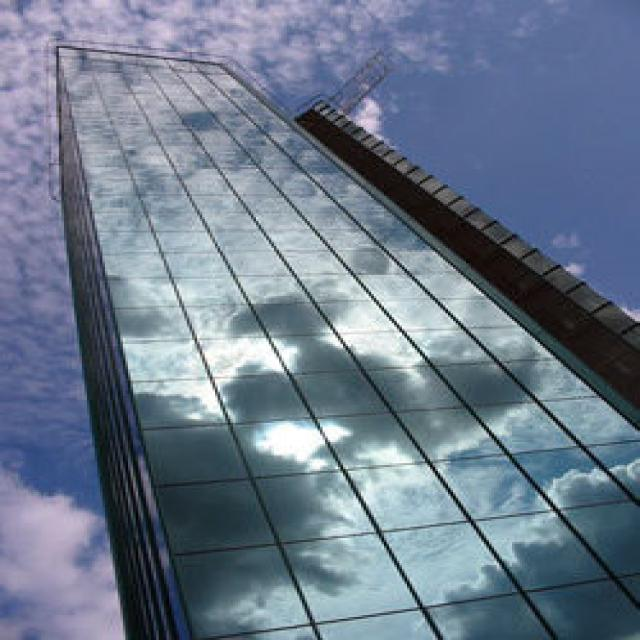building: (46, 36, 637, 640)
